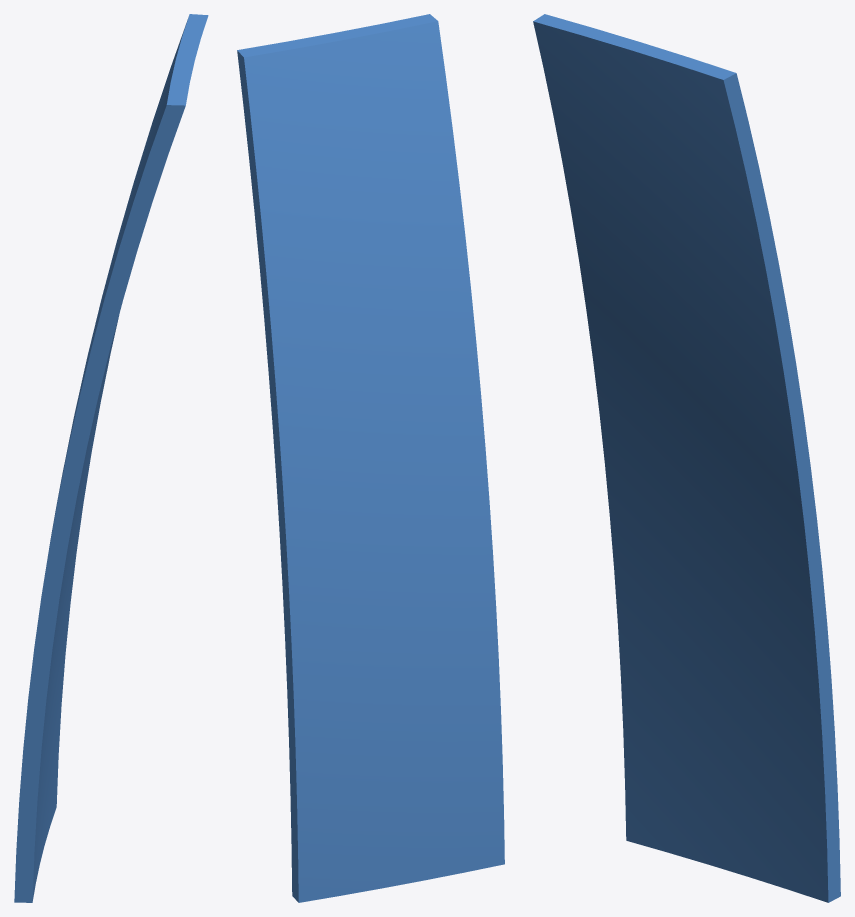
3 views of the same model, side by side, from view 1: azimuth 30°, elevation 25°; view 2: azimuth 150°, elevation 25°; view 3: azimuth 270°, elevation 25° (orthographic). The views are drawn at different scales.
Visible parts, largest first — view 1: Body1; view 2: Body1; view 3: Body1.
Boxes of the visible parts, box(x1,y1,x2,y2) form: Body1: box(14, 14, 208, 902); Body1: box(237, 14, 504, 902); Body1: box(533, 14, 840, 902).
Size of the model in its own units: 2.35 by 7.7 by 2.45.
